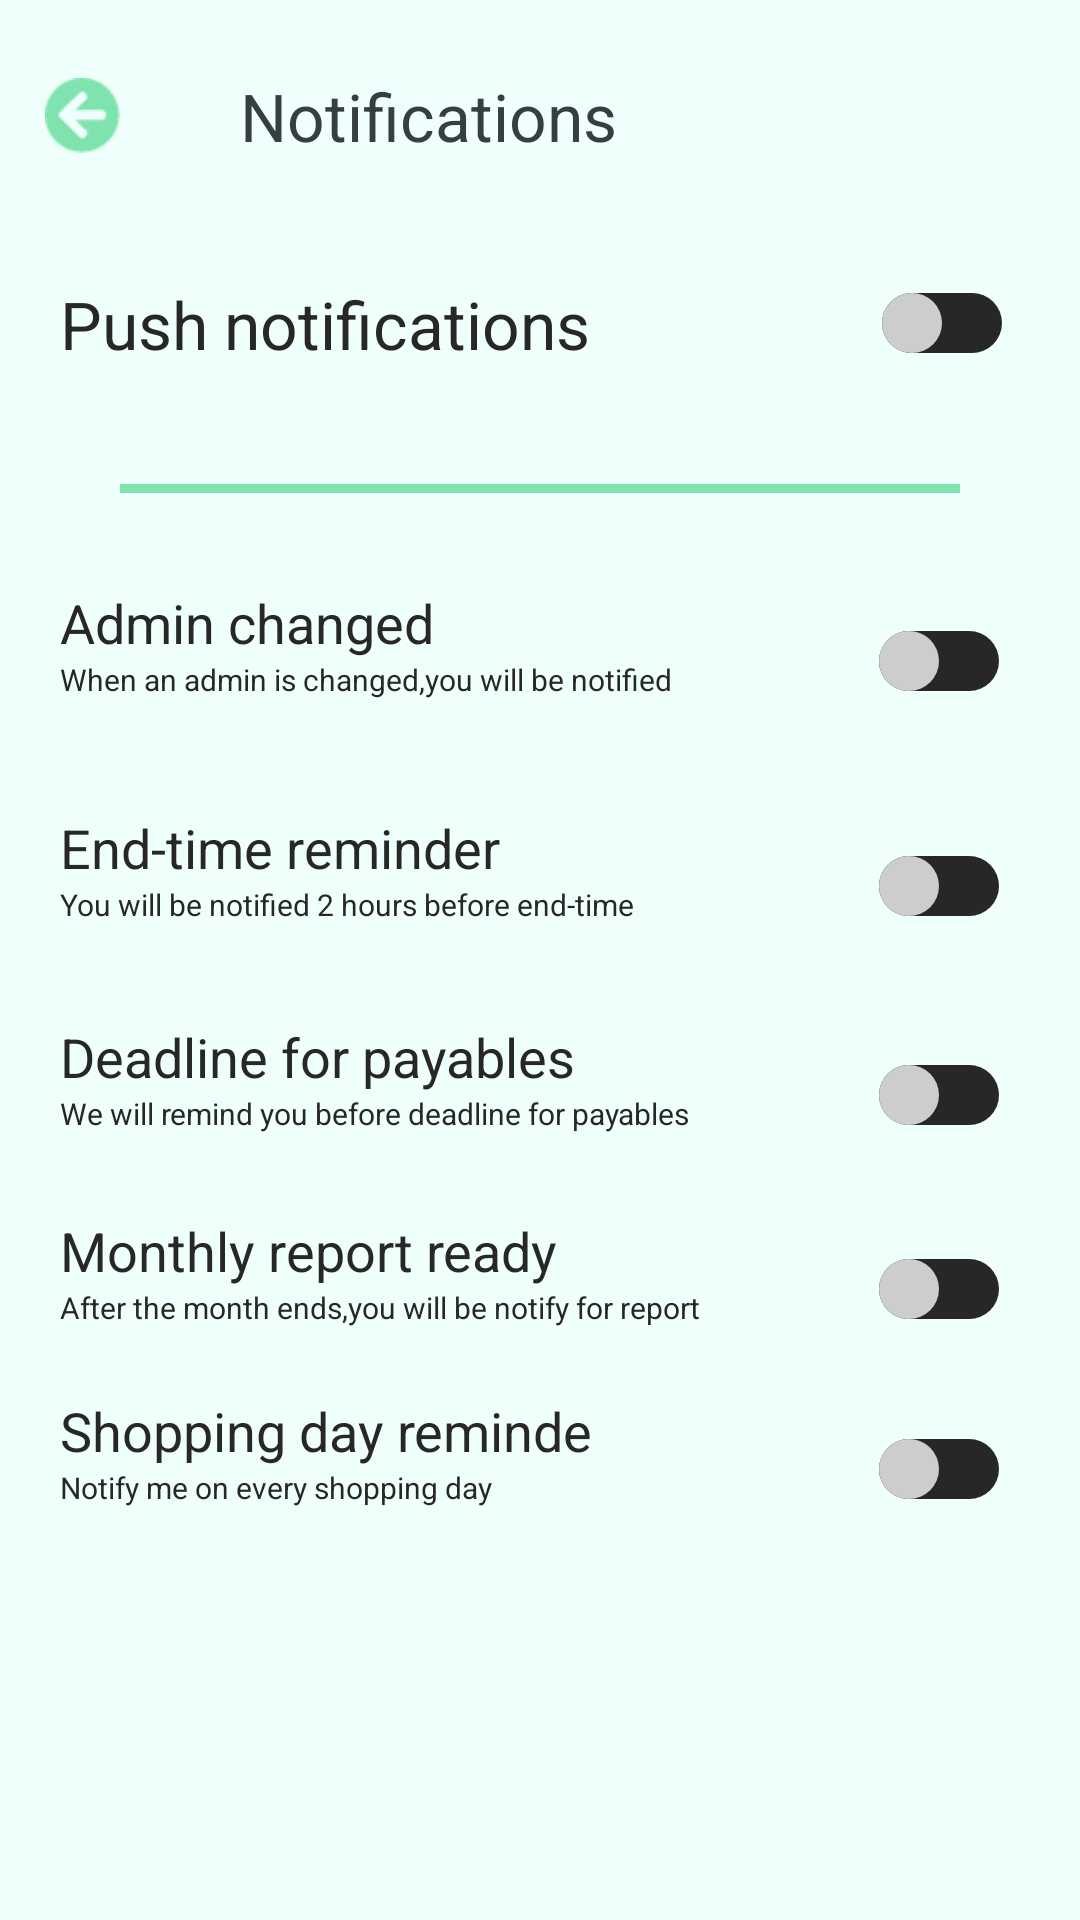

Named icons in this screenshot (1080 x 1920) and their centers, (x,y):
back: (82,115)
